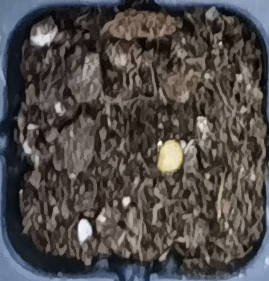pepper seed: (65, 52, 249, 227)
